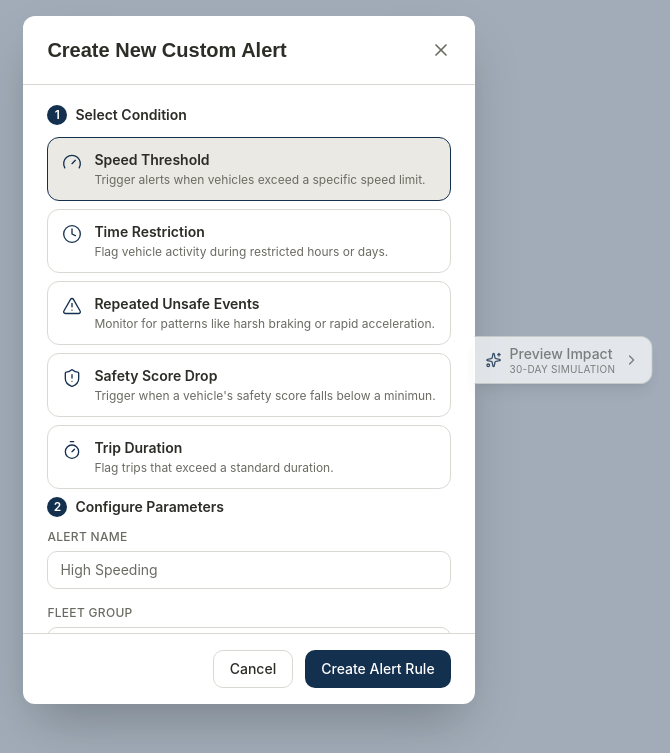
it: CreateAlertRuleModal › resets the form fields on close
The image size is (670, 753).
In the field labelled "Alert Name": (249, 570) [47,551,451,589], type "Draft Rule"
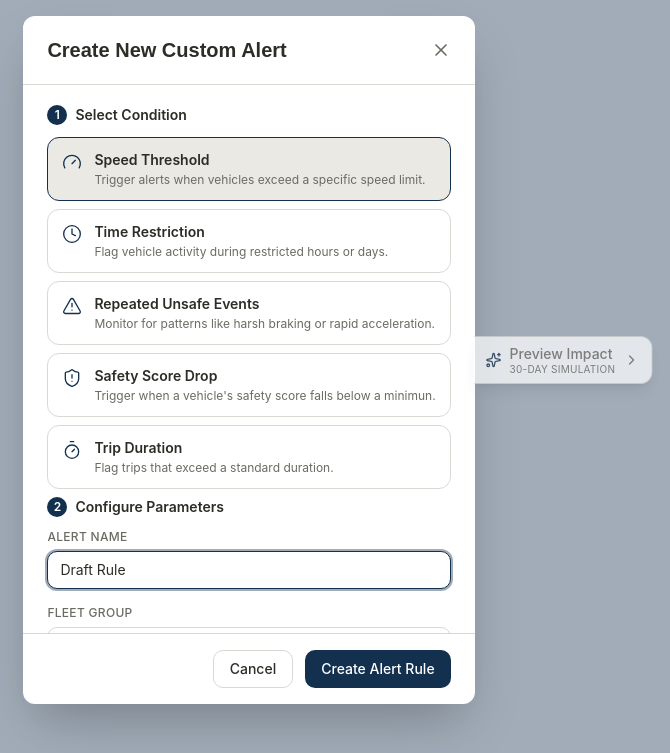
Click the button "Cancel": click(253, 669) [213,650,293,688]
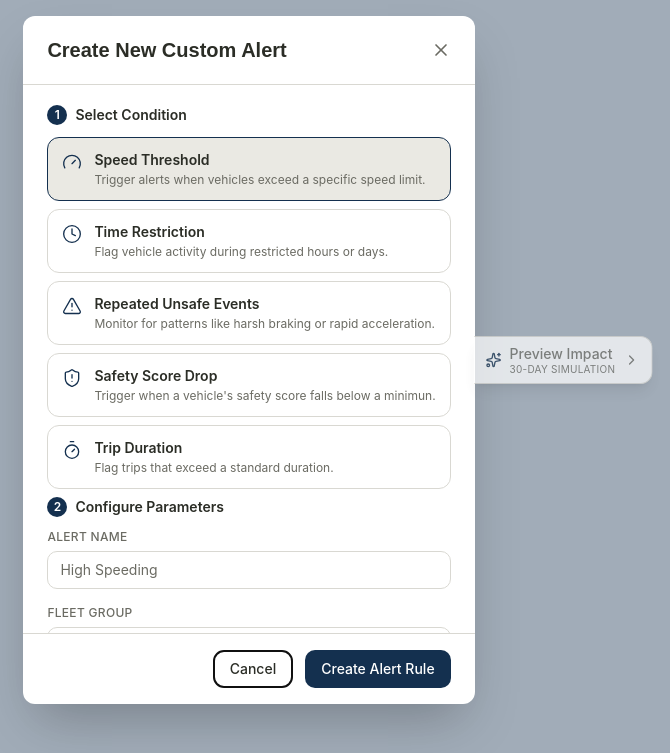
Result: the field labelled "Alert Name" is empty at [47,551,451,589]
